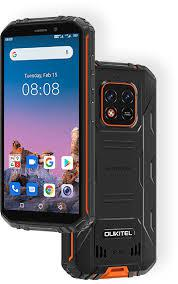Smartphone: (2, 20, 90, 230), (66, 63, 152, 277)
